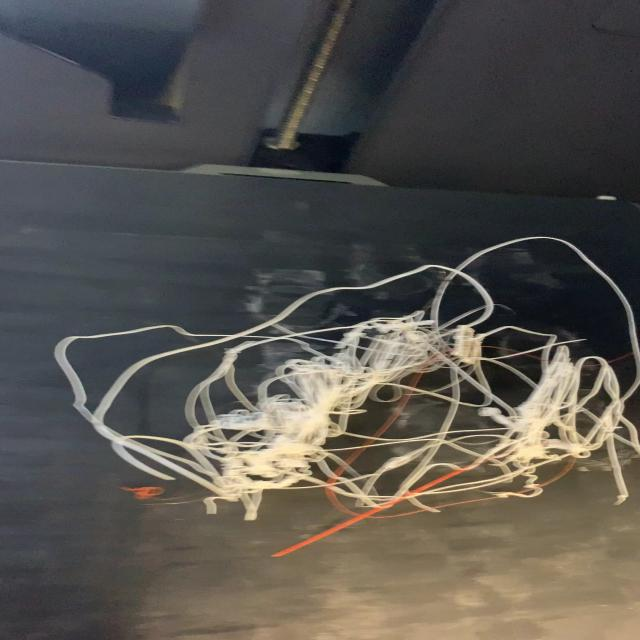spaghetti: (50, 235, 637, 558)
